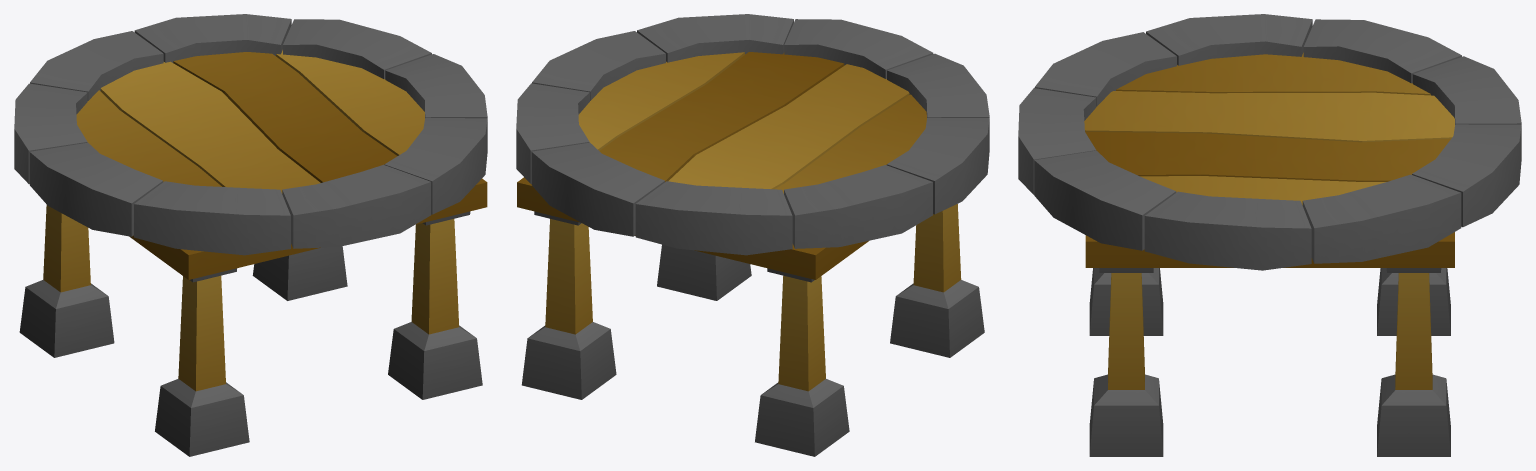
The model's file is Table.glb.
3 renders of one model, left to right at view 1: azimuth 30°, elevation 25°; view 2: azimuth 150°, elevation 25°; view 3: azimuth 270°, elevation 25°, orthographic. The views are drawn at different scales.
Visible parts, largest first — view 1: Cube.009, Plane.001, Plane.002; view 2: Cube.009, Plane.001, Plane.002; view 3: Cube.009, Plane.002, Plane.001.
Part boxes in pixels (<box>): Cube.009: <box>14,14,487,255</box>; Plane.001: <box>19,178,487,456</box>; Plane.002: <box>76,50,424,193</box>; Cube.009: <box>516,14,989,255</box>; Plane.001: <box>517,177,984,456</box>; Plane.002: <box>578,52,926,193</box>; Cube.009: <box>1018,14,1521,270</box>; Plane.002: <box>1084,52,1454,204</box>; Plane.001: <box>1085,232,1454,456</box>.
Bounding box in the file's own units: 1.59 × 0.8996 × 1.57.
1 material, 1 textured.
